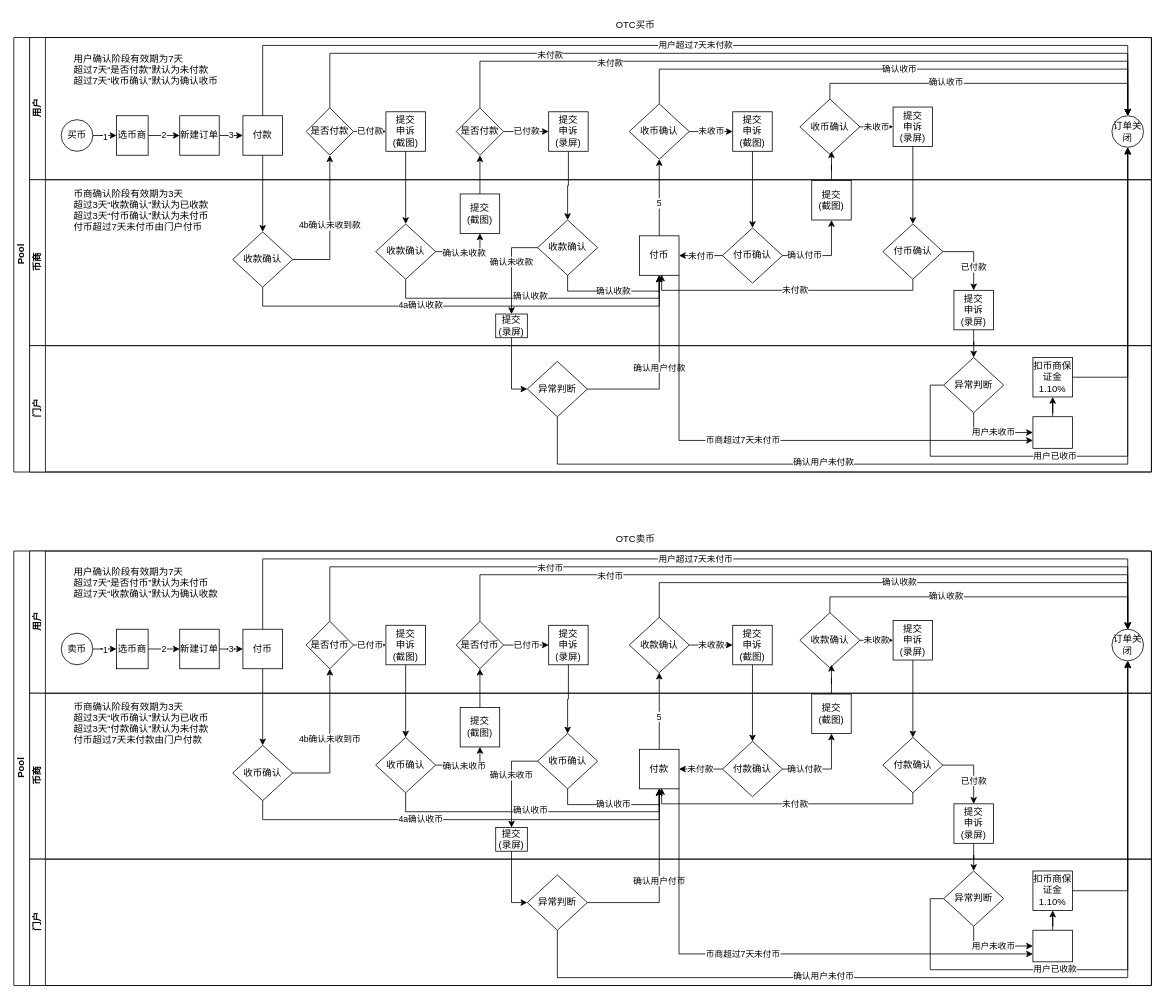
Image size: 1165x999. Some labels were removed from this diagram. The box of each missing label's shape, as (x1, y1, x2, y2) in pixels:
给用户打币1.05%: (1032, 416, 1072, 448)
给用户打款1.05%: (1032, 929, 1072, 962)
